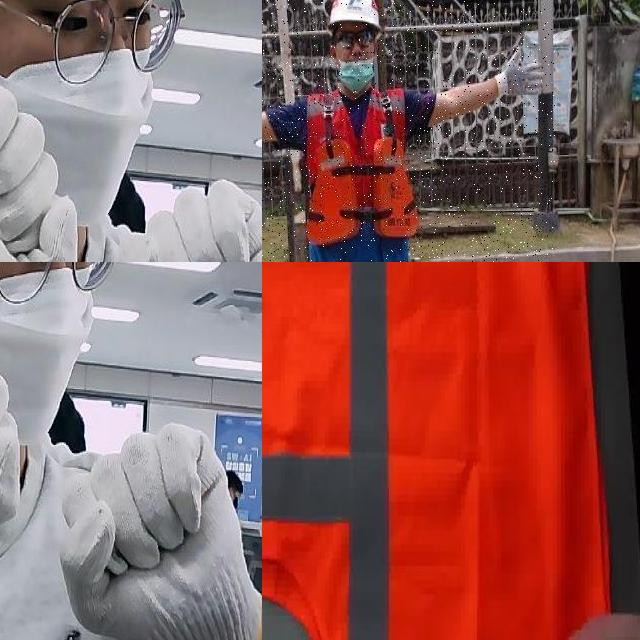GLASS: (332, 30, 377, 49)
GLOVE: (63, 425, 262, 640), (0, 74, 80, 262), (495, 47, 545, 97)
HELMET: (326, 0, 385, 32)
VEST: (262, 262, 613, 640), (304, 86, 419, 262)
